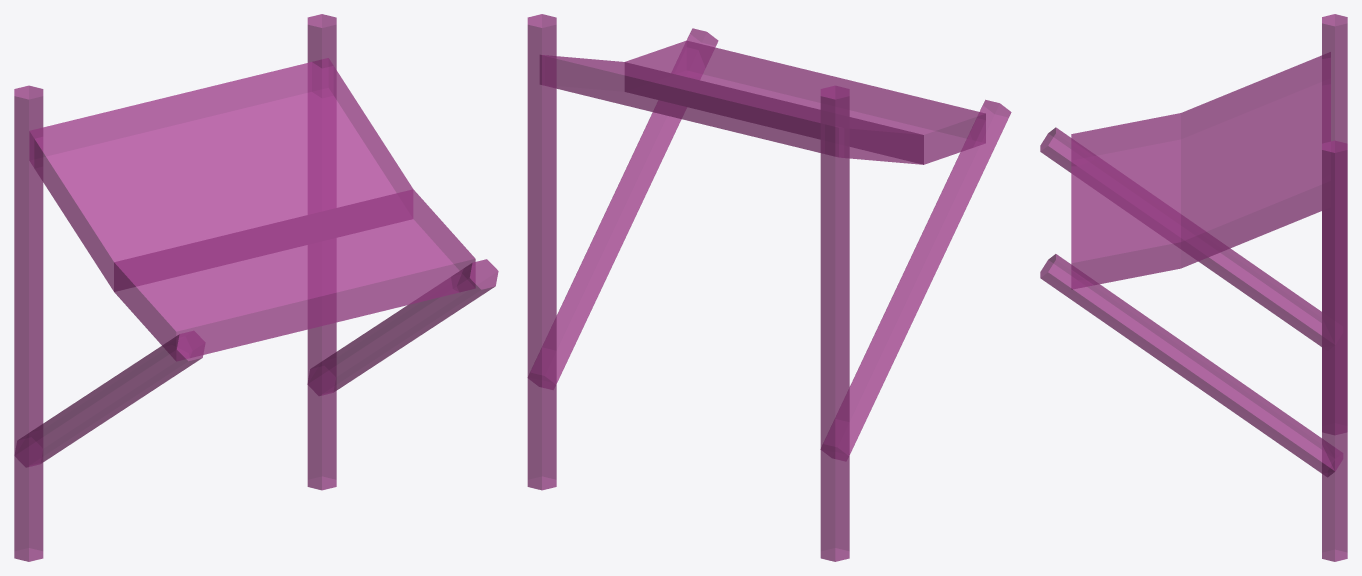
The model's file is SM_Bld_Awning_02_Collision_01.fbx.
3 renders of one model, left to right at view 1: azimuth 30°, elevation 25°; view 2: azimuth 150°, elevation 25°; view 3: azimuth 270°, elevation 25°, orthographic. The views are drawn at different scales.
Visible parts, largest first — view 1: SM_Bld_Awning_02_Collision_01; view 2: SM_Bld_Awning_02_Collision_01; view 3: SM_Bld_Awning_02_Collision_01.
Part boxes in pixels (x1,y1,x2,y2): SM_Bld_Awning_02_Collision_01: (14,14,498,561); SM_Bld_Awning_02_Collision_01: (527,14,1011,561); SM_Bld_Awning_02_Collision_01: (1040,14,1347,561).
Size of the model in its own units: 169 by 231 by 158.
